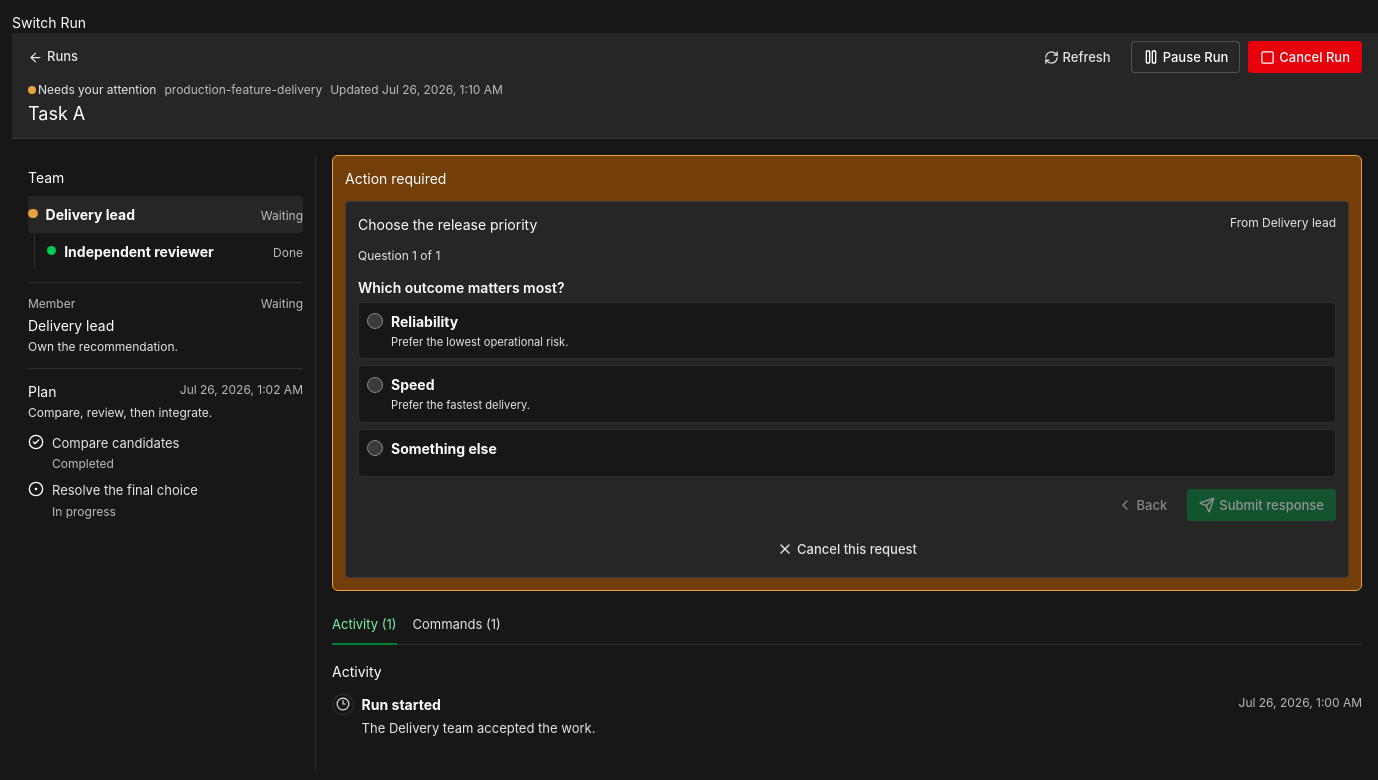
Test: temporary Run Studio › does not apply a stale control response after switching Runs
Expected: the heading "Task A" is shown, [28,103,85,124]
Click the button "Pause Run" at (1186, 57), box [1131,41,1240,73]
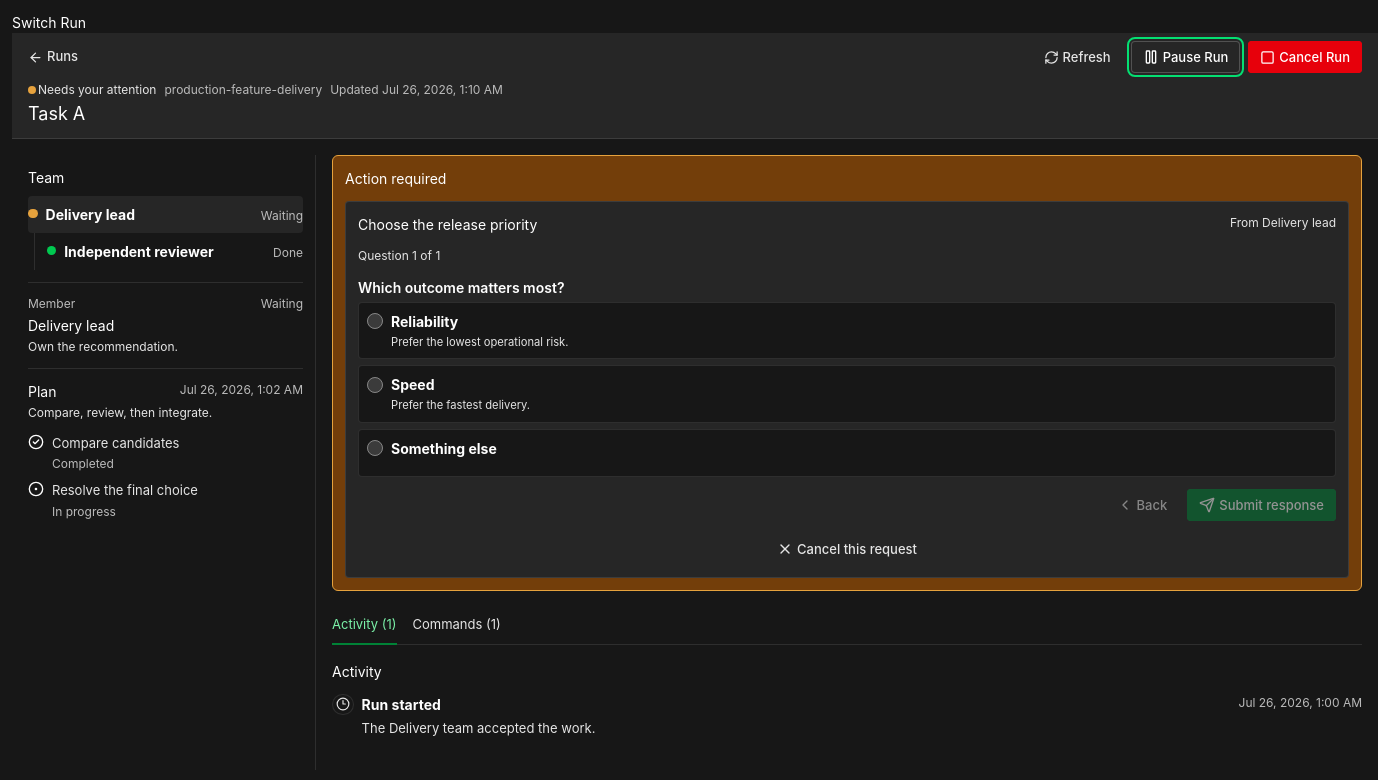
Click the link "Switch Run" at (49, 22), box [12,14,86,31]
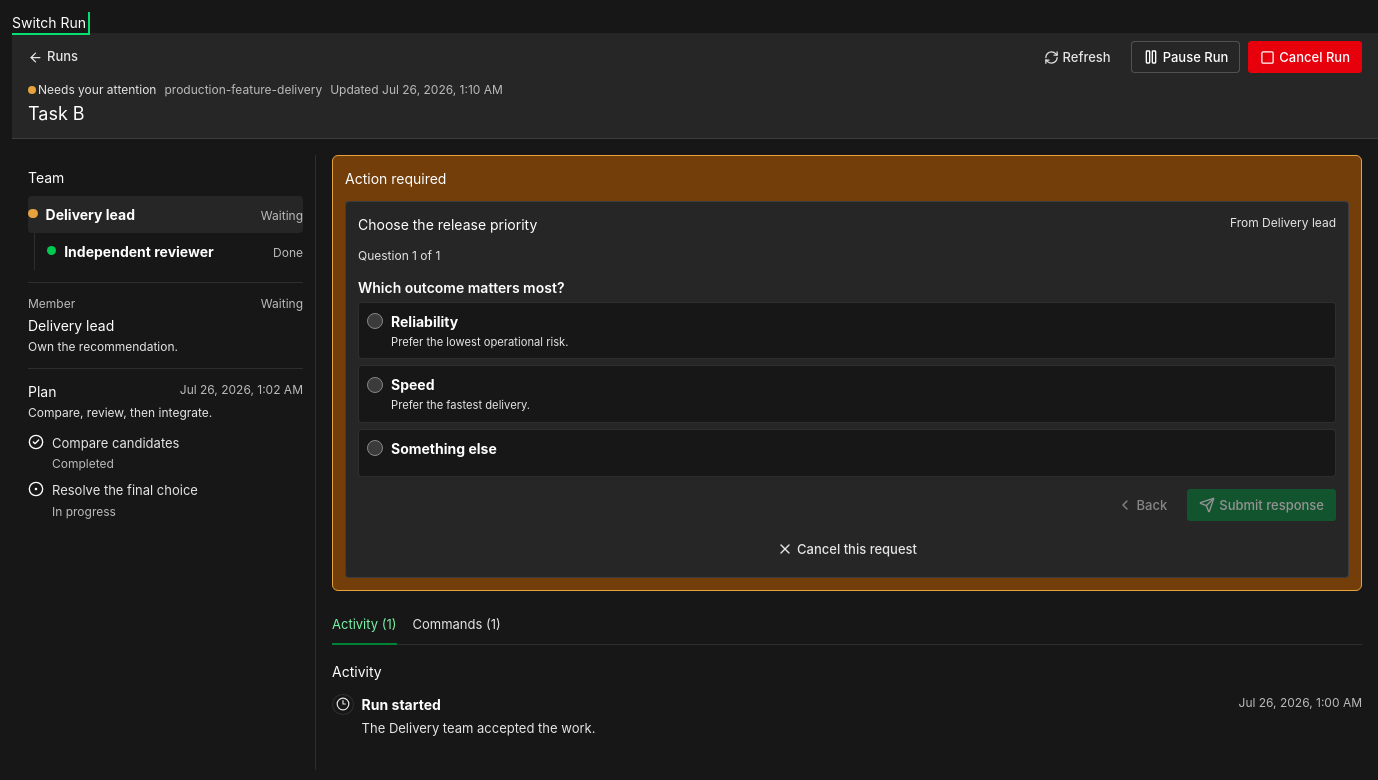
Expected: the text with class "run-status" does not show "Paused", [28,81,156,99]
Result: the heading "Task B" is shown at [28,103,85,124]
